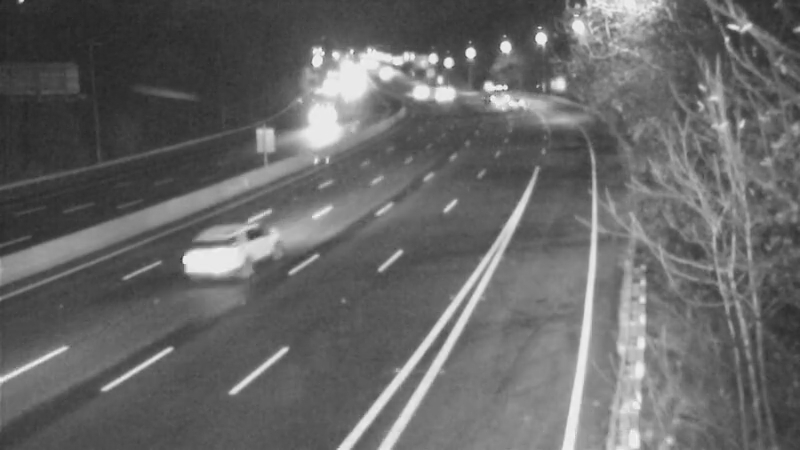vehicle: (168, 218, 248, 298), (461, 63, 511, 113), (387, 63, 437, 113), (425, 65, 475, 115), (489, 75, 539, 125), (295, 95, 345, 145)
